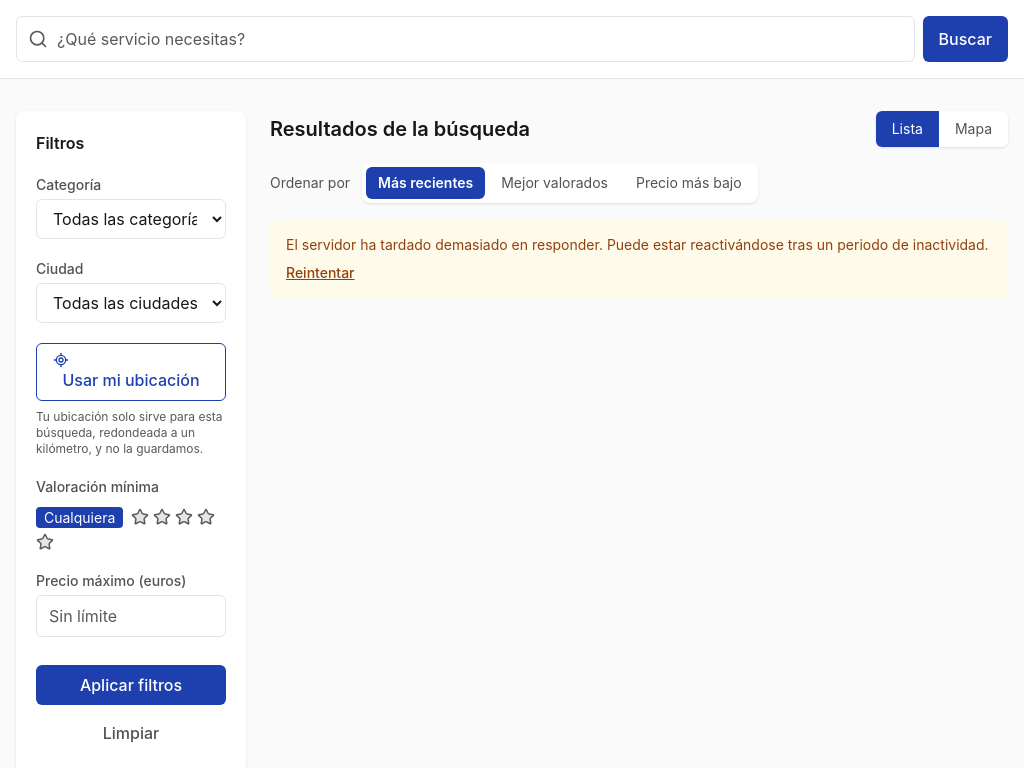
Test: El buscador › si la búsqueda falla › porque tarda demasiado, lo explica y deja reintentar
Expected: the message shows "El servidor ha tardado demasiado en responder. Puede estar reactivándose tras un periodo de inactividad.", [286,236,989,253]
What coordinates should you click on to do the following:
click the button "Reintentar"
I would click on:
 (320, 273)
Its box is [286,263,354,283].
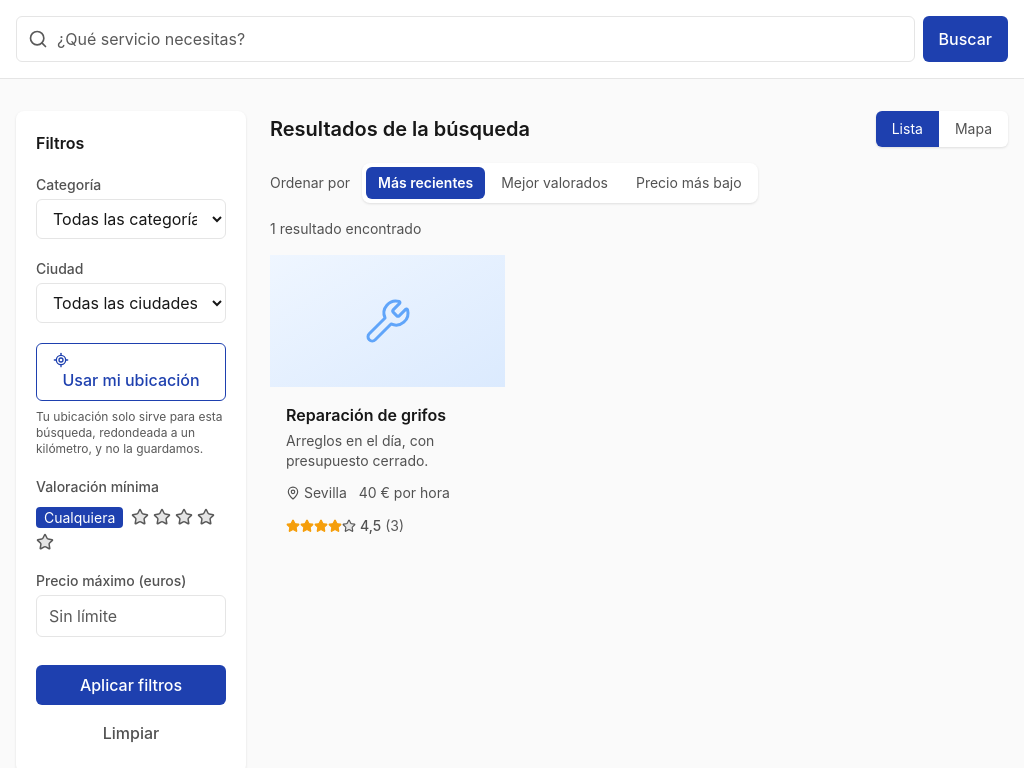
Expected: the heading "Reparación de grifos" is shown, [286,405,446,425]
